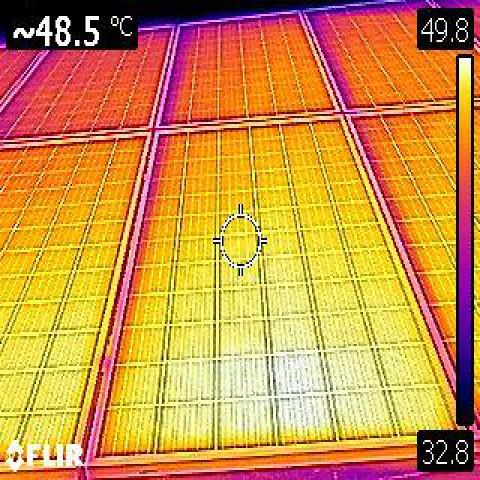fault: (224, 357, 386, 426)
